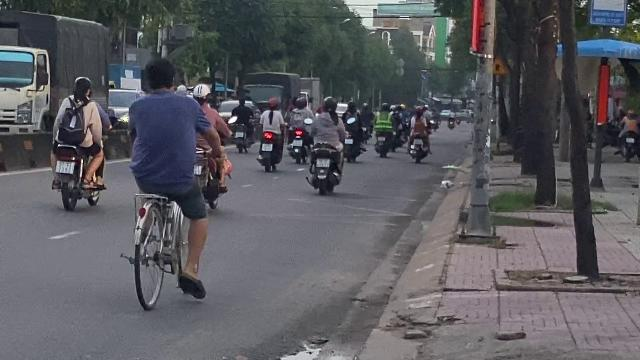licenseplate: (55, 162, 73, 172)
motorcyclist: (48, 74, 108, 210)
nohelmet: (70, 76, 92, 102)
